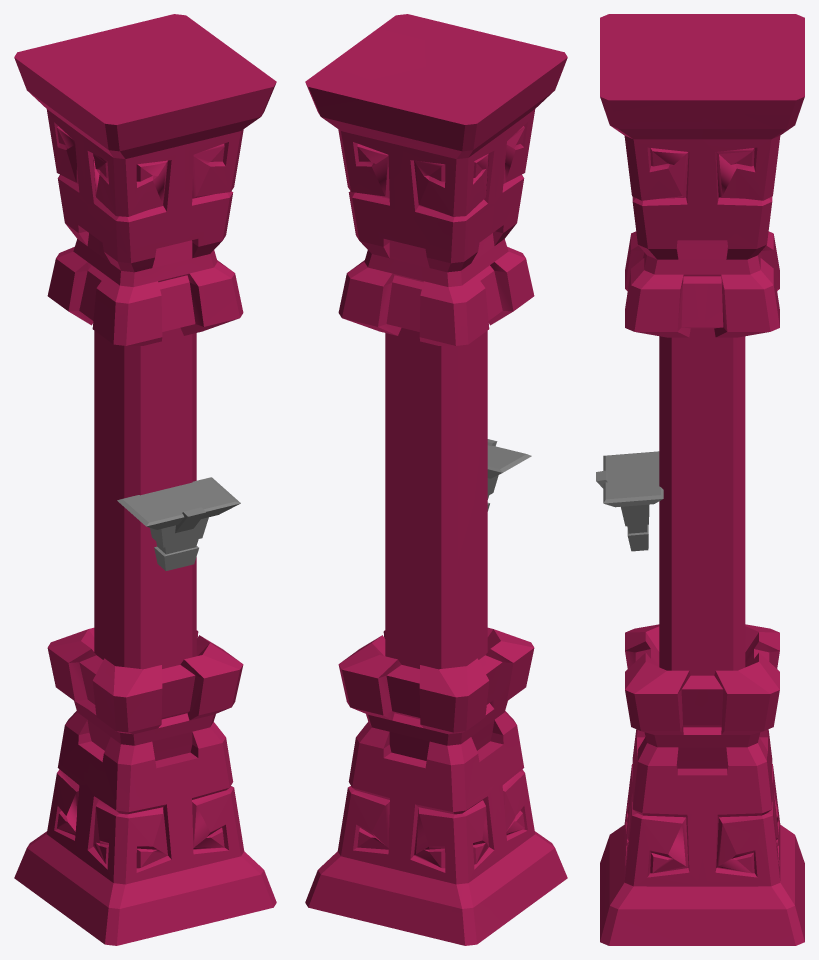
File: Boss_pillar_torch_01.fbx
The picture shows the model from 3 angles, left to right: view 1: azimuth 30°, elevation 25°; view 2: azimuth 150°, elevation 25°; view 3: azimuth 270°, elevation 25°; orthographic projection. The views are drawn at different scales.
Visible parts, largest first — view 1: Boss_pillar_torch_01; view 2: Boss_pillar_torch_01; view 3: Boss_pillar_torch_01.
Boxes of the visible parts, <box> form: Boss_pillar_torch_01: <box>14,14,276,945</box>; Boss_pillar_torch_01: <box>305,14,567,945</box>; Boss_pillar_torch_01: <box>596,14,804,945</box>.
Size of the model in its own units: 263 by 1200 by 269.
